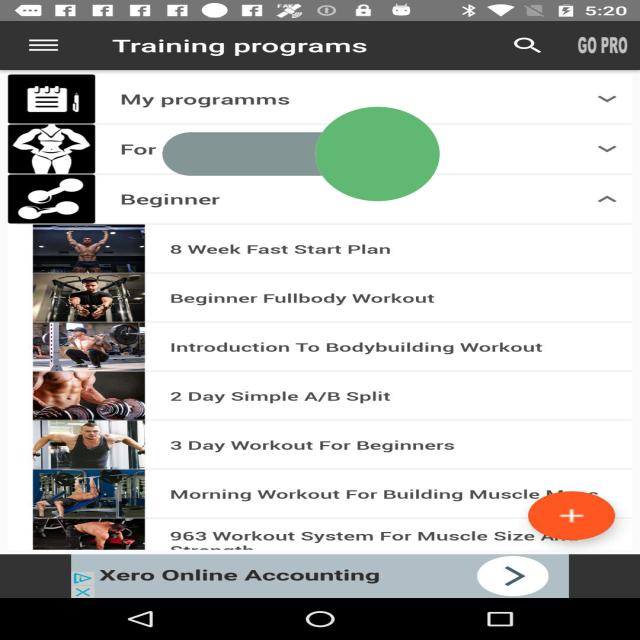social proof: (162, 49, 440, 259)
